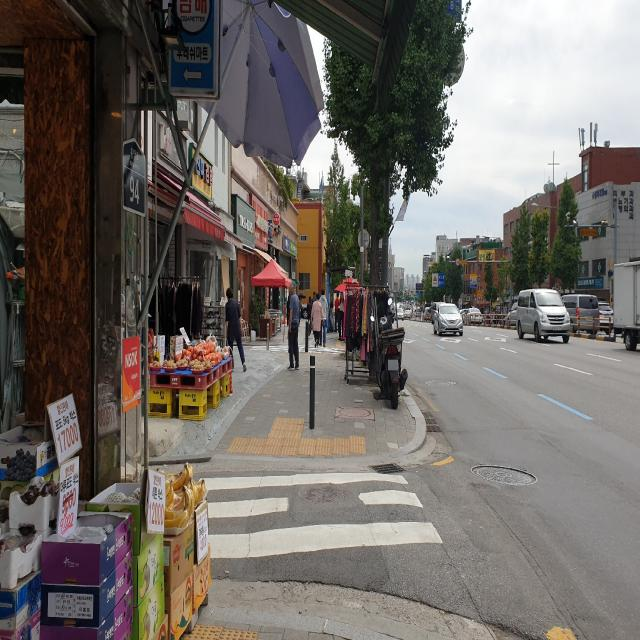횡단보도: (197, 470, 445, 562)
